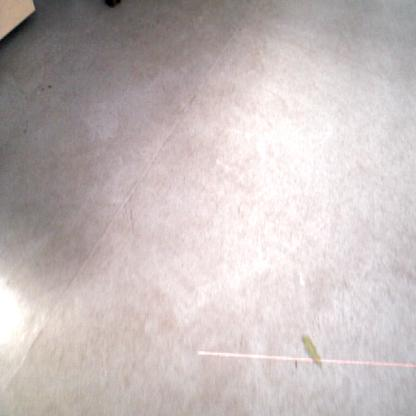dirty: (300, 333, 323, 369)
mark: (189, 93, 198, 105), (160, 79, 166, 92), (21, 125, 28, 135), (40, 85, 46, 94), (46, 82, 52, 90), (294, 359, 298, 370), (24, 117, 30, 124), (130, 208, 132, 222)
